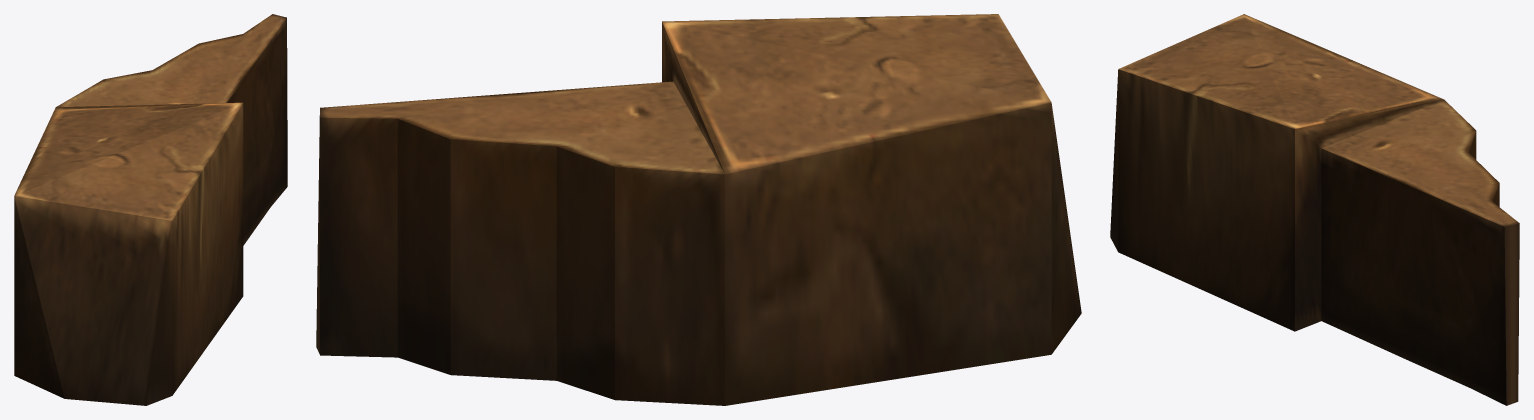
Rendered from ShiZhuan02.FBX.
The picture shows the model from 3 angles, left to right: view 1: azimuth 30°, elevation 25°; view 2: azimuth 150°, elevation 25°; view 3: azimuth 270°, elevation 25°; orthographic projection. The views are drawn at different scales.
Parts seen in each view (by area): view 1: ShiZhuan02; view 2: ShiZhuan02; view 3: ShiZhuan02.
Part boxes in pixels (box(x1,y1,x2,y2)): ShiZhuan02: box(14, 14, 287, 405); ShiZhuan02: box(316, 14, 1081, 405); ShiZhuan02: box(1110, 14, 1519, 405).
Size of the model in its own units: 155 by 72.14 by 132.
